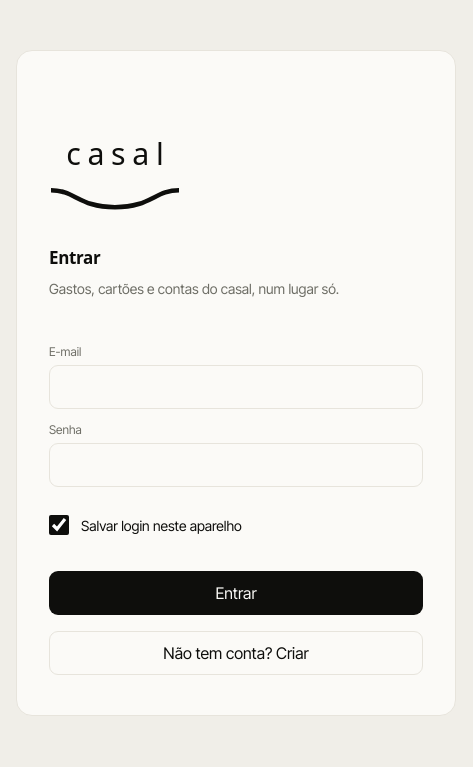
Test: Entrar › explica e-mail inválido ao clicar em Entrar
In the field labelled "E-mail": [236, 387] box [49, 365, 423, 409], type "eu"
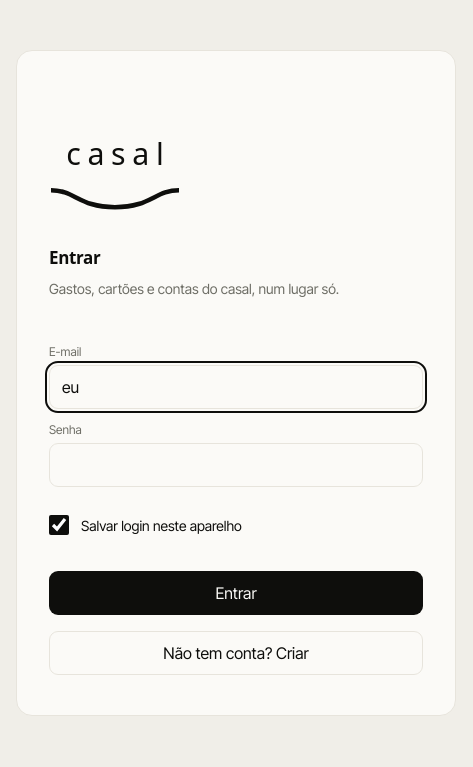
In the password field labelled "Senha": [236, 465] box [49, 443, 423, 487], type "seissseis"
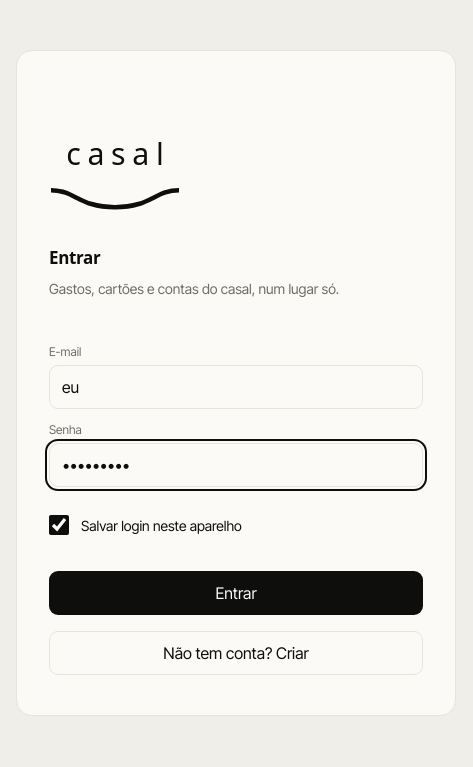
Click the button "Entrar": [236, 593] box [49, 571, 423, 615]
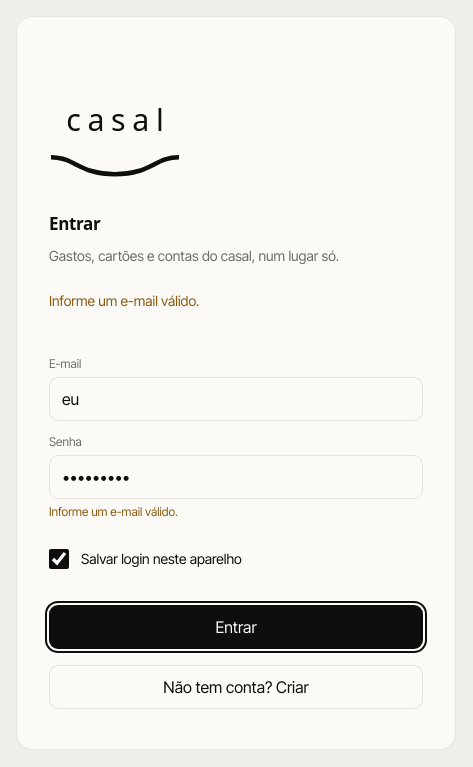
Expected: the message reads "Informe um e-mail válido.", [49, 292, 200, 309]
